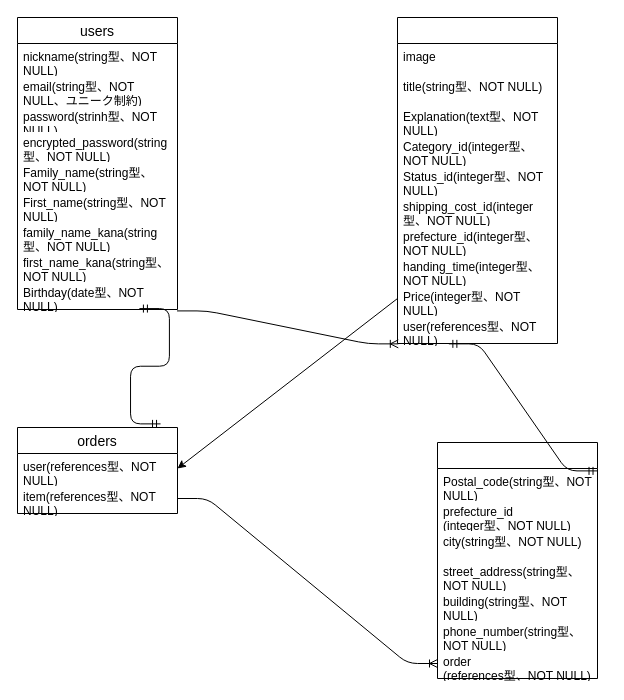
Image size: 624x700. Some labels were removed from this diagram. The box of each missing label's shape, as (x1, y1, x2, y2) in pixels:
items: (396, 16, 558, 344)
Shipping address: (436, 442, 598, 678)
